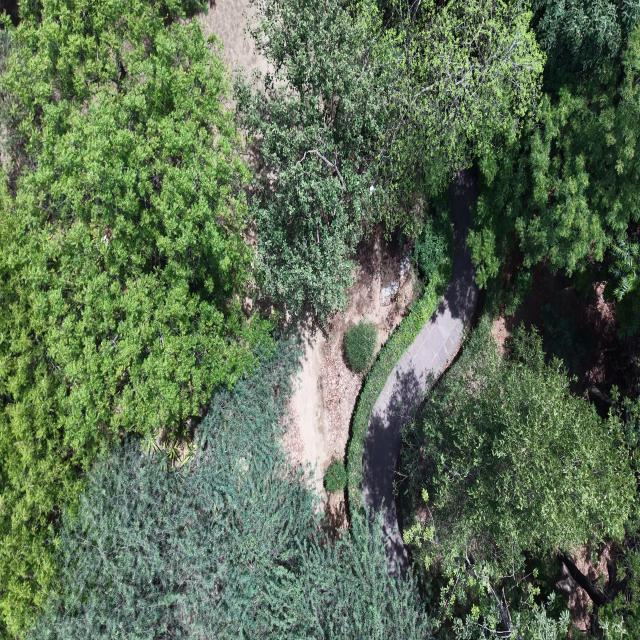DRY_AREA: (285, 230, 419, 526), (285, 230, 417, 526), (286, 234, 415, 526), (493, 265, 639, 417), (503, 265, 639, 417), (492, 270, 616, 391), (197, 0, 267, 77), (556, 564, 596, 634)
PATHWAYS: (363, 171, 478, 574)
VEGETATION_TREE: (0, 0, 639, 639), (0, 0, 419, 635), (0, 0, 267, 635), (30, 342, 430, 639), (236, 0, 543, 318), (34, 345, 312, 639), (401, 319, 636, 637), (410, 321, 636, 573), (469, 0, 639, 335), (236, 0, 388, 318), (477, 31, 638, 275), (375, 0, 544, 200), (347, 243, 452, 513), (532, 0, 639, 75), (585, 503, 639, 639), (593, 520, 639, 639), (540, 304, 592, 373), (413, 197, 453, 283), (609, 232, 639, 337), (414, 219, 446, 282), (344, 320, 377, 372), (324, 459, 346, 493)
